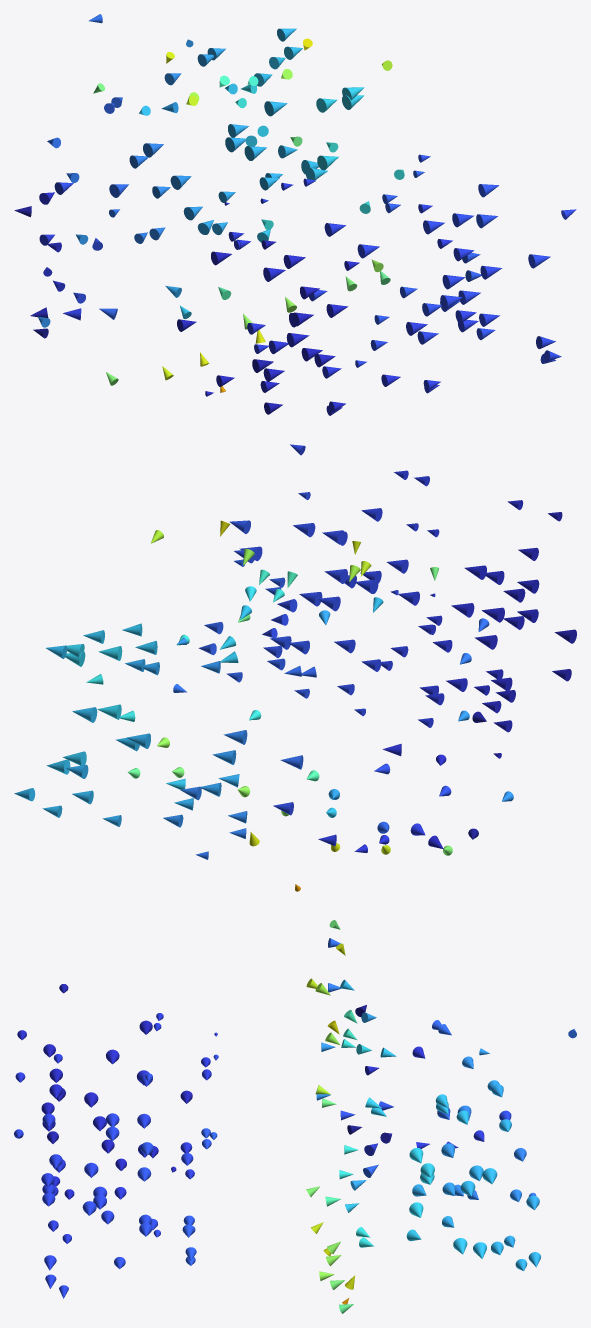
Rendered from LineasCorrienteN2-H2O_mh2-8.20_V-0.7.glb.
3 renders of one model, top to bottom at view 1: azimuth 30°, elevation 25°; view 2: azimuth 150°, elevation 25°; view 3: azimuth 270°, elevation 25°, orthographic. The views are drawn at different scales.
Bounding box in the file's own units: 0.000956 × 0.00083 × 0.00126.
2 materials, 2 textured.
